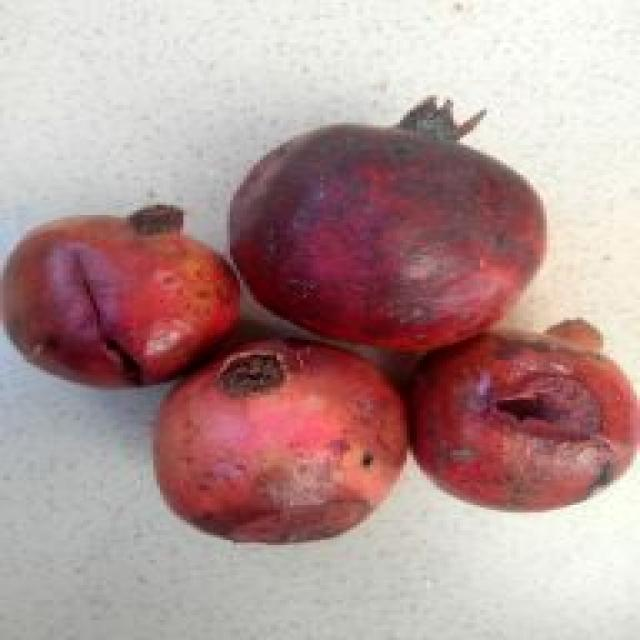Rotten: (214, 88, 550, 348), (162, 348, 409, 545), (0, 196, 236, 386), (416, 317, 640, 512)
